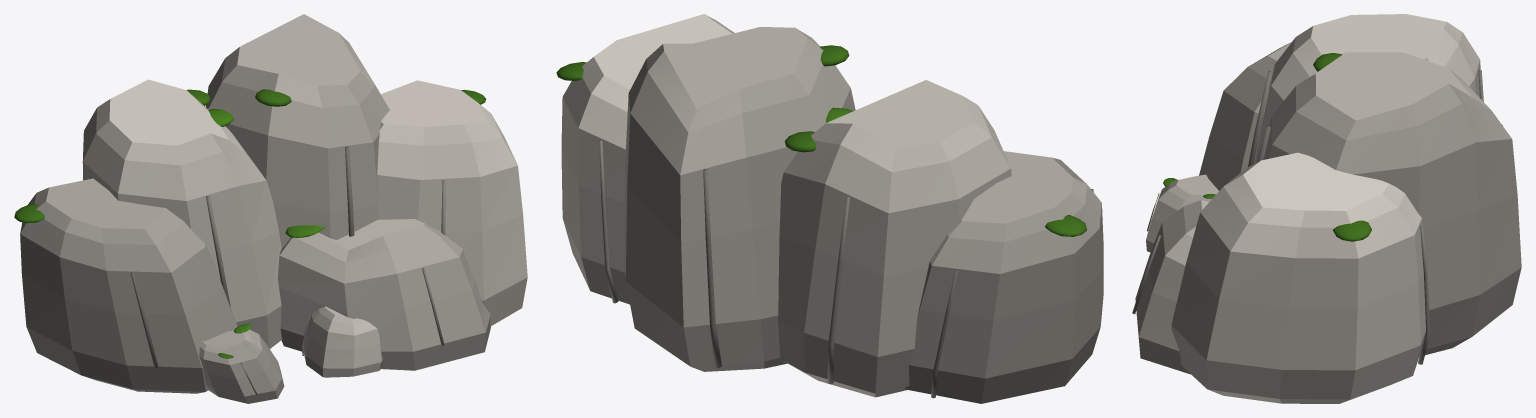
Rendered from shore-rock-BgPgnd-Q.glb.
3 views of the same model, side by side, from view 1: azimuth 30°, elevation 25°; view 2: azimuth 150°, elevation 25°; view 3: azimuth 270°, elevation 25° (orthographic). The views are drawn at different scales.
Parts seen in each view (by area): view 1: shore-rock; view 2: shore-rock; view 3: shore-rock.
Part boxes in pixels (<box>): shore-rock: <box>14,14,527,403</box>; shore-rock: <box>556,14,1103,403</box>; shore-rock: <box>1132,14,1521,403</box>.
Size of the model in its own units: 2.3 by 1.2 by 1.6.
